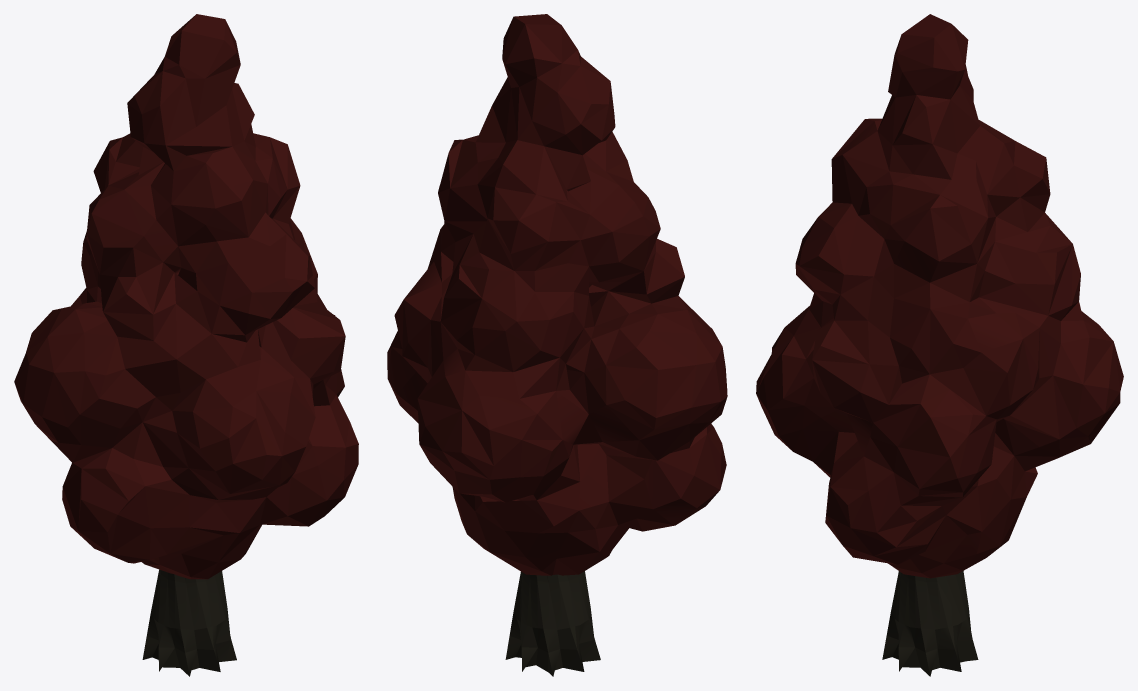
The model's file is tree_2_3.obj.
3 views of the same model, side by side, from view 1: azimuth 30°, elevation 25°; view 2: azimuth 150°, elevation 25°; view 3: azimuth 270°, elevation 25° (orthographic).
Parts seen in each view (by area): view 1: polySurface43, polySurface21 pSphere23; view 2: polySurface43, polySurface21 pSphere23; view 3: polySurface43, polySurface21 pSphere23.
Part boxes in pixels (x1,y1,x2,y2): polySurface43: (14,14,358,579); polySurface21 pSphere23: (142,569,236,676); polySurface43: (387,14,727,575); polySurface21 pSphere23: (505,571,600,676); polySurface43: (756,14,1123,578); polySurface21 pSphere23: (882,571,978,676).
Bounding box in the file's own units: 17.99 × 33.76 × 17.55.
